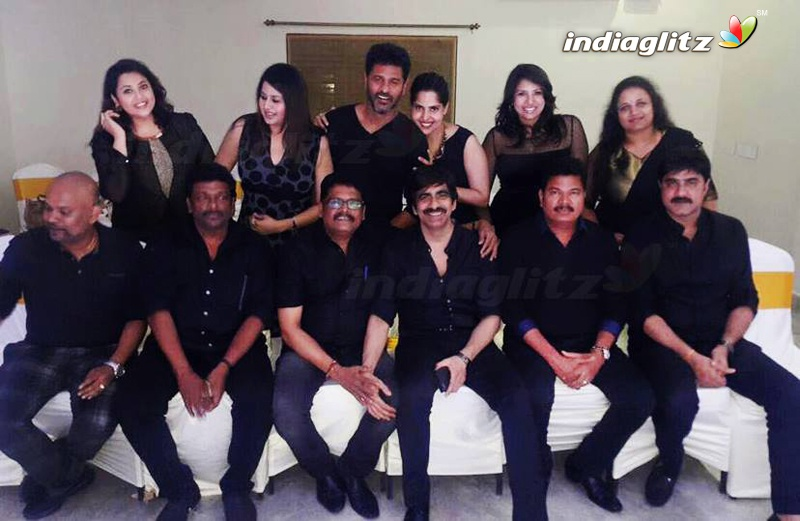bad: (117, 74, 160, 118), (660, 170, 703, 214), (544, 180, 588, 223), (362, 70, 405, 113), (189, 185, 232, 228), (410, 185, 453, 228), (249, 86, 285, 122), (409, 98, 445, 134), (325, 194, 361, 230), (617, 94, 653, 130), (509, 86, 545, 122)
